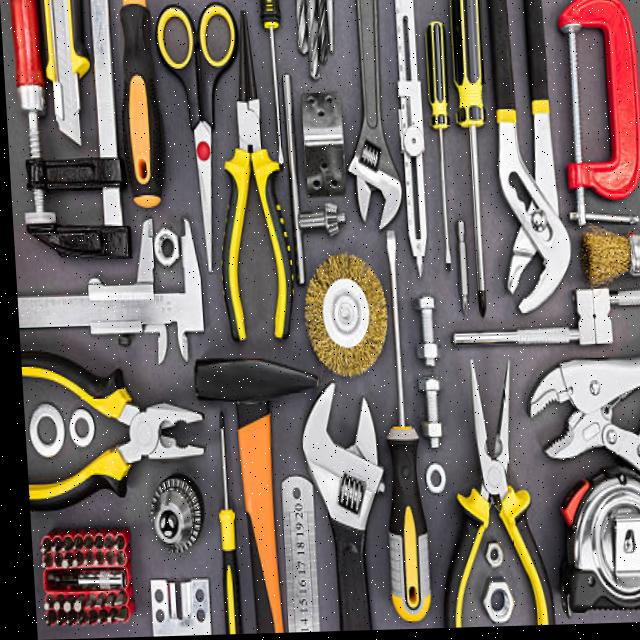Screwdriver: (381, 233, 424, 624), (451, 0, 484, 318), (121, 0, 163, 209), (425, 24, 448, 270), (212, 414, 233, 635), (260, 0, 281, 167)
